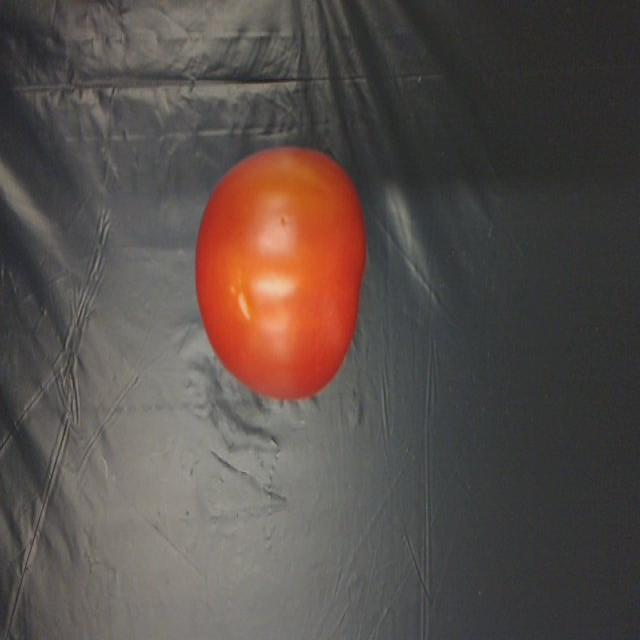sari: (194, 128, 367, 413)
